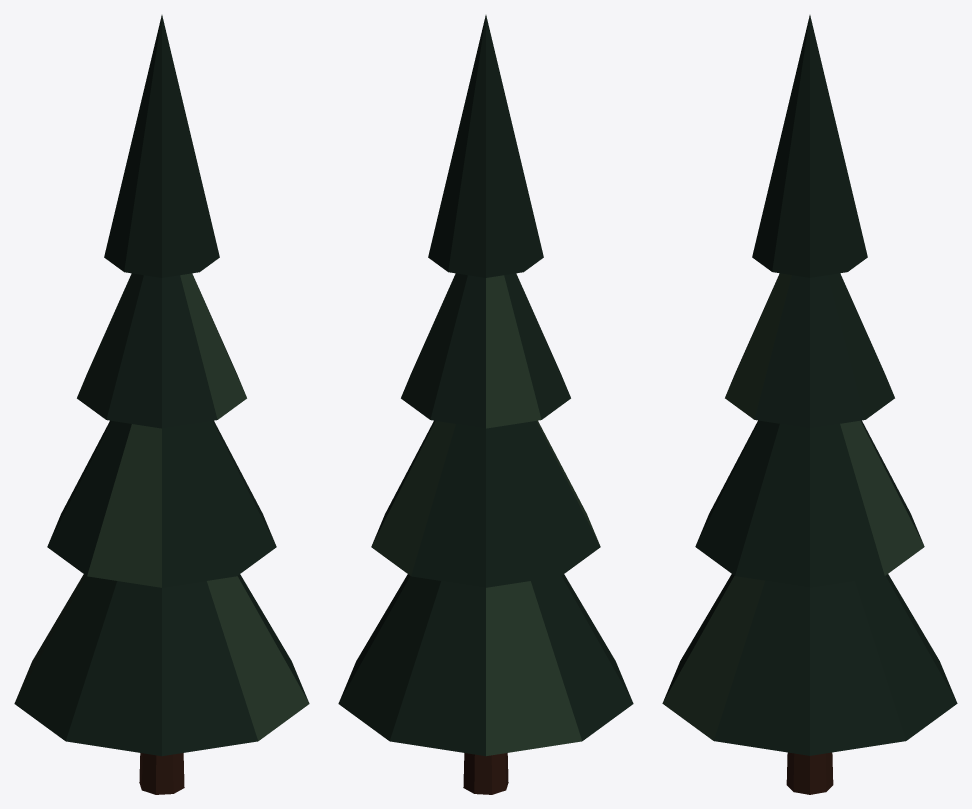
File: Tree_Pine_03.fbx
The picture shows the model from 3 angles, left to right: view 1: azimuth 30°, elevation 25°; view 2: azimuth 150°, elevation 25°; view 3: azimuth 270°, elevation 25°; orthographic projection.
Visible parts, largest first — view 1: Tree_Pine_03_Foliage, Tree_Pine_03_Trunk; view 2: Tree_Pine_03_Foliage, Tree_Pine_03_Trunk; view 3: Tree_Pine_03_Foliage, Tree_Pine_03_Trunk.
Part boxes in pixels (box(x1,y1,x2,y2)): Tree_Pine_03_Foliage: box(14, 15, 309, 756); Tree_Pine_03_Trunk: box(139, 753, 184, 794); Tree_Pine_03_Foliage: box(338, 15, 633, 756); Tree_Pine_03_Trunk: box(463, 753, 508, 794); Tree_Pine_03_Foliage: box(662, 15, 957, 755); Tree_Pine_03_Trunk: box(786, 752, 833, 794).
Size of the model in its own units: 3.14 by 9.2 by 3.19.
1 material, 1 textured.
